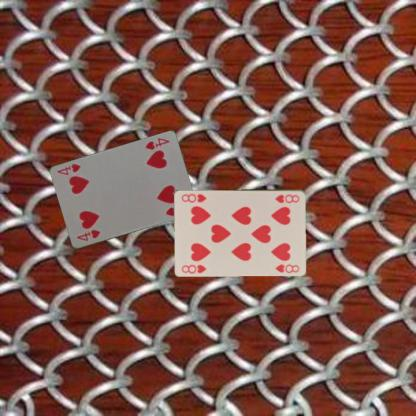4h: (142, 136, 171, 152), (74, 227, 101, 243)
8h: (273, 191, 300, 204), (179, 262, 208, 274)
